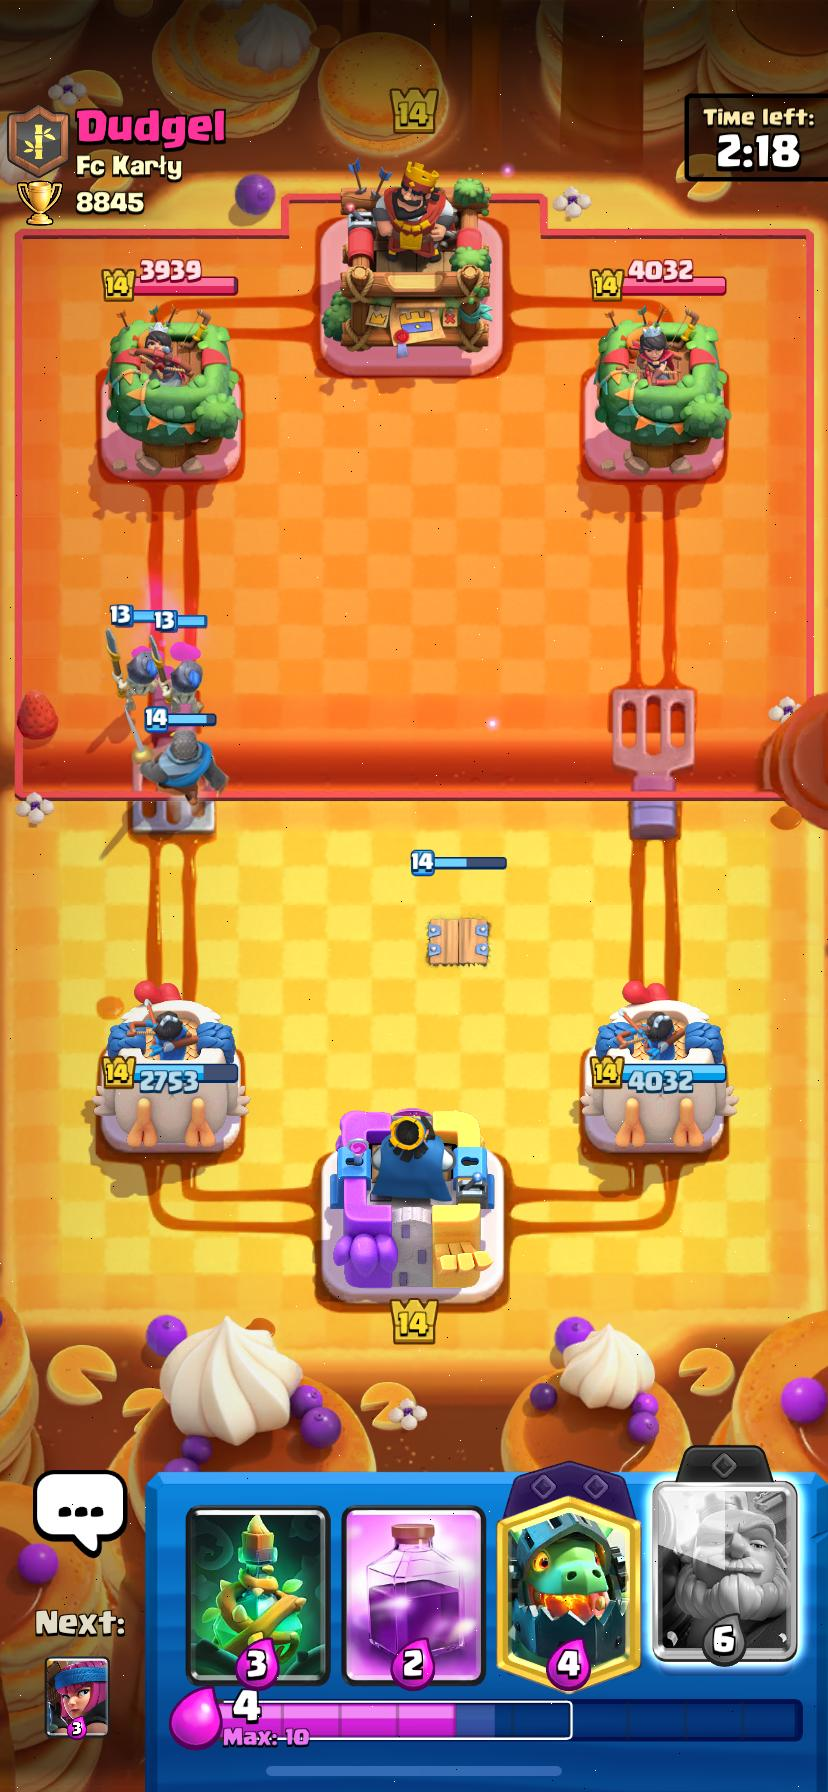EKingTower: (323, 163, 491, 357)
EnemyPrincessTower: (594, 312, 730, 473), (106, 311, 241, 467)
OGuard: (106, 629, 164, 706), (170, 659, 201, 713)
OKnight: (133, 726, 226, 810)
OTesla: (427, 917, 489, 965)
OwnKingTower: (331, 1109, 493, 1301)
OwnPrincessTower: (580, 982, 737, 1154), (93, 983, 247, 1151)
